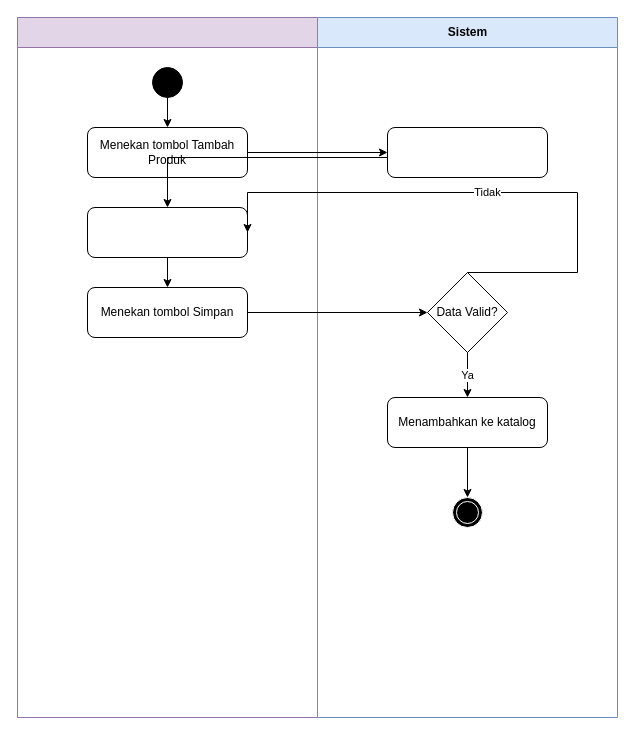
This 635x735 diagram has some shape labels left out. Here are the shapes that lost their labels. From the top down, the box of each, then its label:
(386, 126, 548, 178): Menampilkan formulir produk
(86, 206, 248, 258): Mengisi SKU, Nama, dan Harga
(16, 16, 318, 718): Direktur
